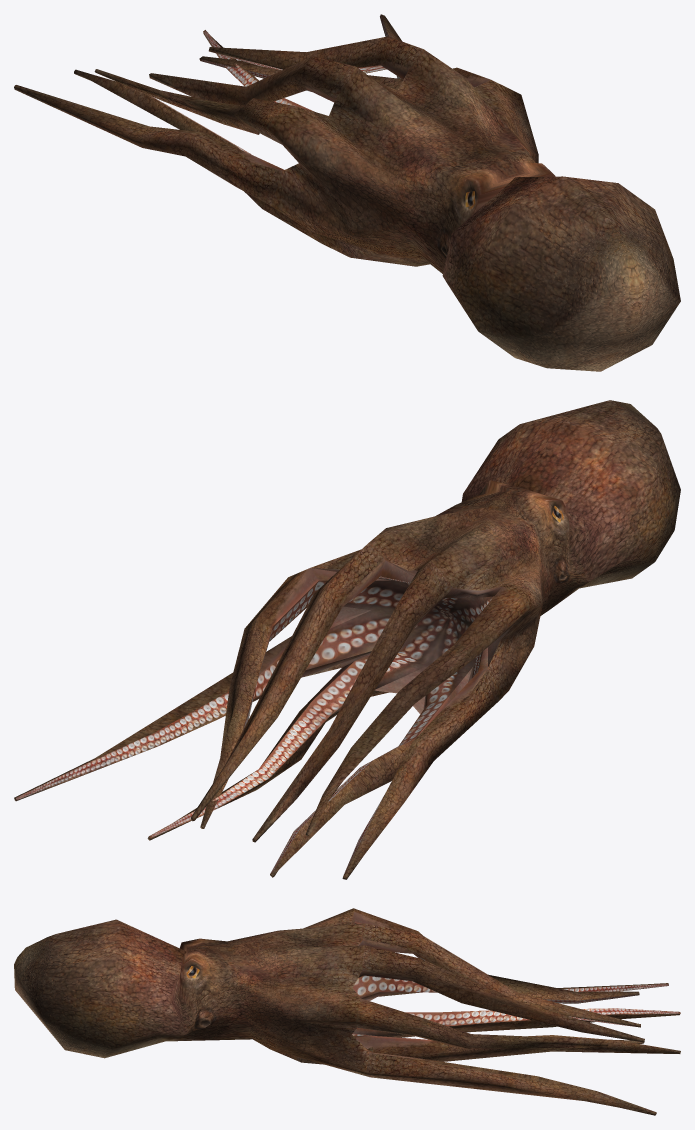
File: Octopus_fished.dae
The picture shows the model from 3 angles, top to bottom: view 1: azimuth 30°, elevation 25°; view 2: azimuth 150°, elevation 25°; view 3: azimuth 270°, elevation 25°; orthographic projection. The views are drawn at different scales.
Parts seen in each view (by area): view 1: Octopus; view 2: Octopus; view 3: Octopus.
Boxes of the visible parts, bbox=[...] form: Octopus: bbox=[14, 14, 680, 371]; Octopus: bbox=[14, 400, 680, 879]; Octopus: bbox=[14, 908, 680, 1115].
Bounding box in the file's own units: 0.568 × 0.2799 × 1.29.
Materials: 1 (1 with a texture image).
